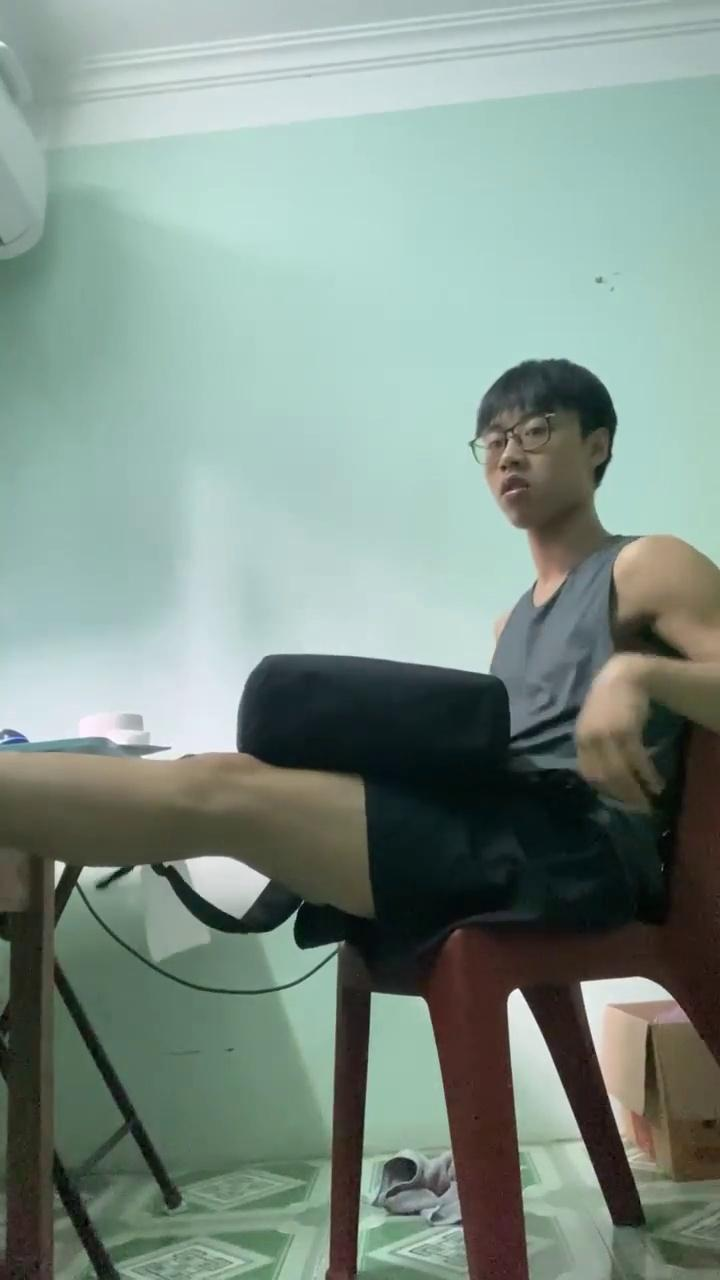BadPosture: (0, 676, 639, 963)
